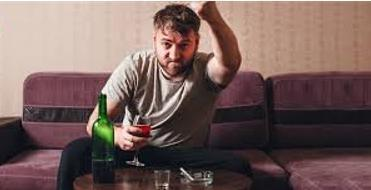Drunk: (156, 28, 194, 75)
